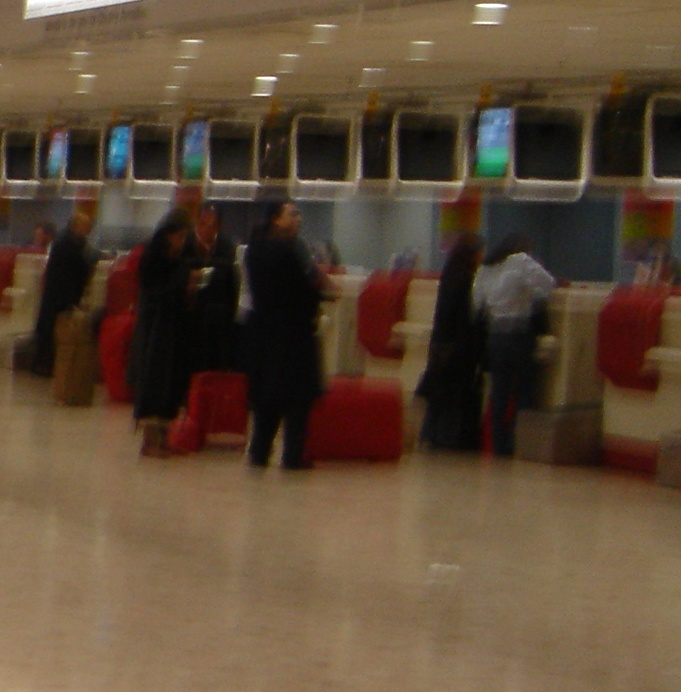person: (244, 193, 325, 469)
